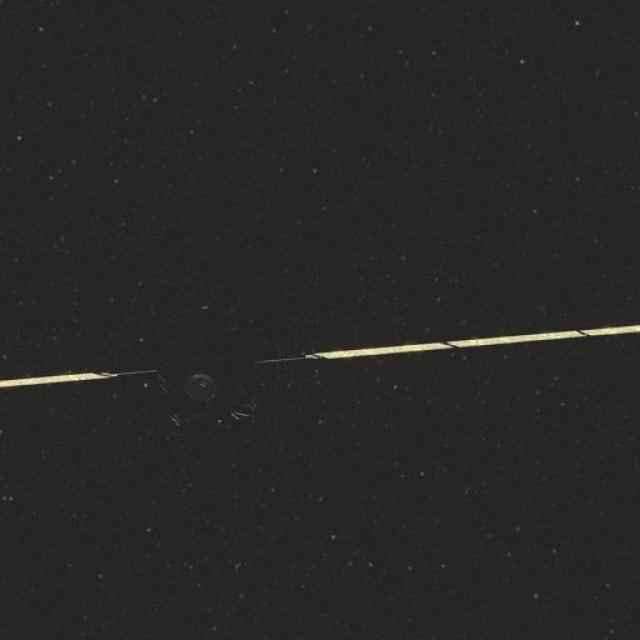smart_1: (15, 302, 601, 434)
